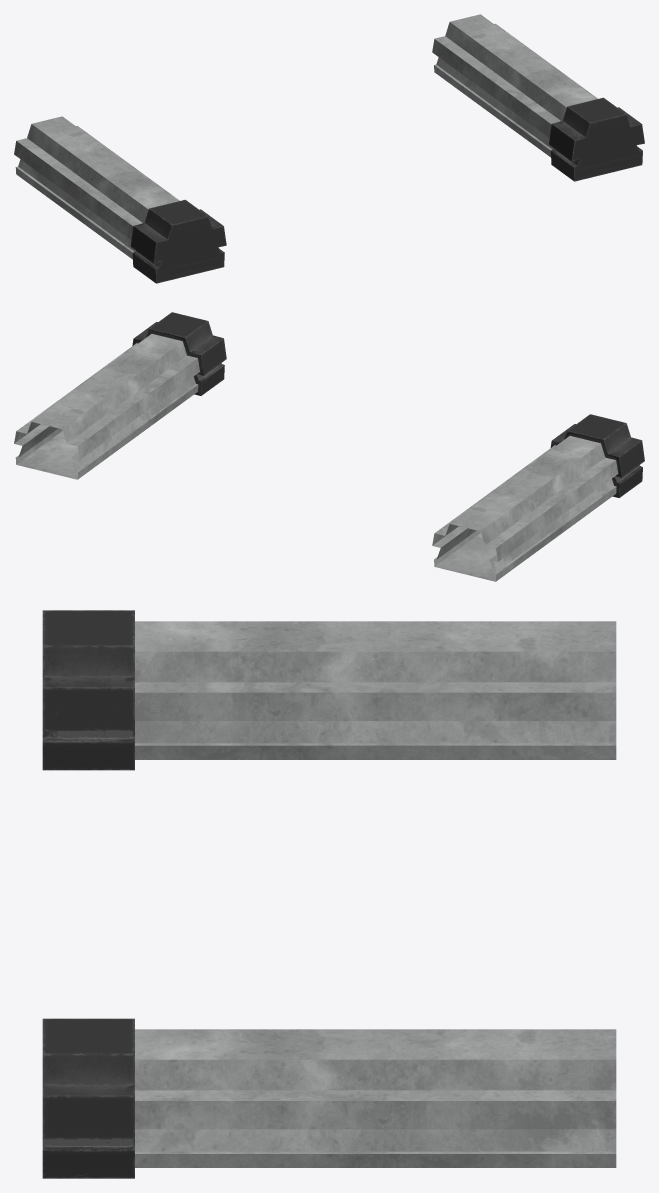
Rendered from CraneRailEndTop.fbx.
The picture shows the model from 3 angles, top to bottom: view 1: azimuth 30°, elevation 25°; view 2: azimuth 150°, elevation 25°; view 3: azimuth 270°, elevation 25°; orthographic projection. The views are drawn at different scales.
Parts seen in each view (by area): view 1: Rail; view 2: Rail; view 3: Rail.
Part boxes in pixels (box(x1,y1,x2,y2)): Rail: box(14, 14, 644, 283); Rail: box(14, 312, 644, 581); Rail: box(42, 610, 616, 1178).
Bounding box in the file's own units: 1880 × 199 × 950.
